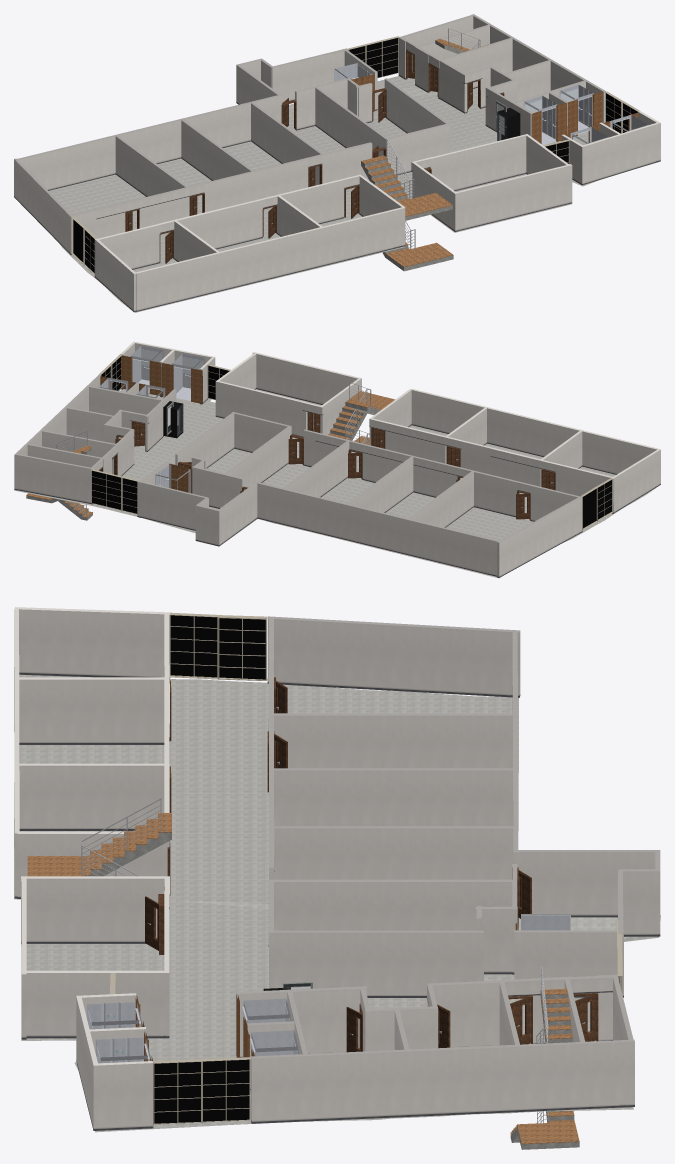
File: TorreInnovacionCasilleros.glb
3 renders of one model, top to bottom at view 1: azimuth 30°, elevation 25°; view 2: azimuth 150°, elevation 25°; view 3: azimuth 270°, elevation 25°, orthographic. The views are drawn at different scales.
Visible parts, largest first — view 1: Cubo.011, Piso, Cubo.001, Cubo.012, Cubo.008, Cubo.028, Cubo.003, Cubo, Cubo.015, Cubo.053, Cubo.059, Cubo.013 (+37 smaller); view 2: Cubo.001, Piso, Cubo.011, Cubo, Cubo.012, Cubo.008, Cubo.017, Cubo.059, Cubo.015, Cubo.014, Cubo.006, Cubo.013 (+44 smaller); view 3: Piso, Cubo.016, Cubo, Cubo.014, Cubo.013, Cubo.053, Cubo.010, Cubo.015, Cubo.006, Cubo.052, Cubo.005, Cubo.007 (+33 smaller).
Boxes of the visible parts, x1,y1,x2,y2 form: Cubo.011: (135,207,405,311); Piso: (15,76,659,312); Cubo.001: (15,95,282,190); Cubo.012: (455,164,572,231); Cubo.008: (430,134,527,191); Cubo.028: (583,122,658,184); Cubo.003: (177,199,262,249); Cubo: (14,158,73,255); Cubo.015: (315,87,389,162); Cubo.053: (250,102,323,185); Cubo.059: (271,48,347,102); Cubo.013: (115,135,187,196); Cubo.001: (255,482,500,576); Piso: (14,389,658,578); Cubo.011: (411,388,658,474); Cubo: (497,496,582,577); Cubo.012: (252,352,360,404); Cubo.008: (215,381,307,437); Cubo.017: (17,454,92,504); Cubo.059: (137,481,207,530); Cubo.015: (224,425,291,490); Cubo.014: (346,456,413,512); Cubo.006: (611,449,660,513); Cubo.013: (407,471,473,527); Piso: (14,674,660,1132); Cubo.016: (251,1039,634,1123); Cubo: (267,616,520,697); Cubo.014: (274,768,515,826); Cubo.013: (274,713,512,768); Cubo.053: (274,826,515,879); Cubo.010: (269,930,483,997); Cubo.015: (268,879,512,946); Cubo.006: (14,607,170,679); Cubo.052: (19,677,164,744); Cubo.005: (17,763,164,830); Cubo.007: (21,876,164,943).
Size of the model in its own units: 95.87 by 20.54 by 57.16.
40 materials, 8 textured.
